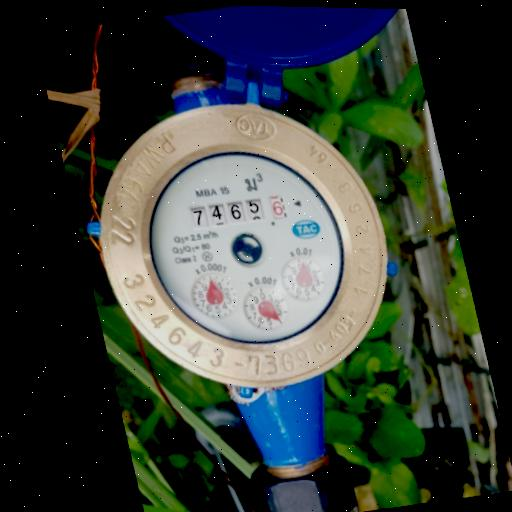4: (208, 203, 227, 226)
5: (246, 198, 265, 221)
6: (268, 194, 286, 219), (227, 200, 245, 224)
7: (189, 206, 209, 228)
border_water_meter_number: (185, 190, 289, 233)
